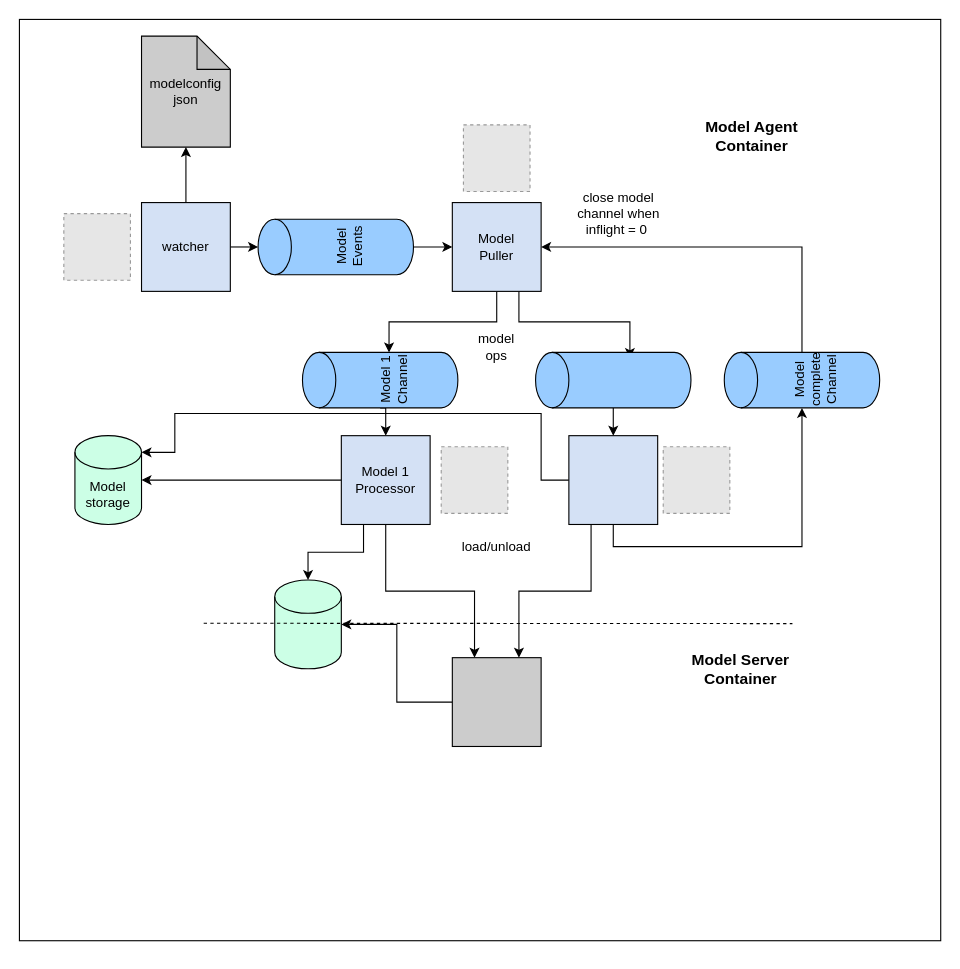
Some shapes in this 960 by 969 pixel diagram are drawn without their labels. Grey dashed boxes stand in for pictures. The shapes that lost their labels are listed below. From the top down, each one's centre as x and y in pixels, then its label:
the point at 612,379: Model 2 Channel
the point at 613,479: Model 2 Processor
the point at 307,624: local mount
the point at 496,701: Model Server
